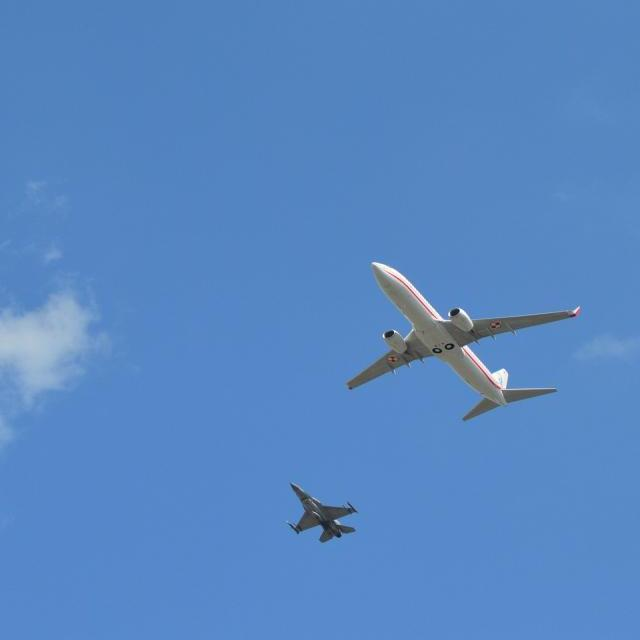airplane: (341, 256, 583, 426), (286, 474, 361, 547)
